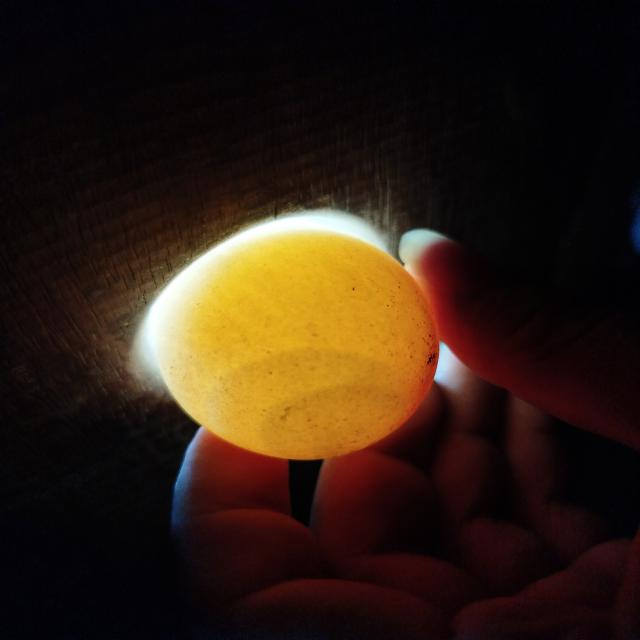Camara de Ar: (210, 349, 425, 460)
